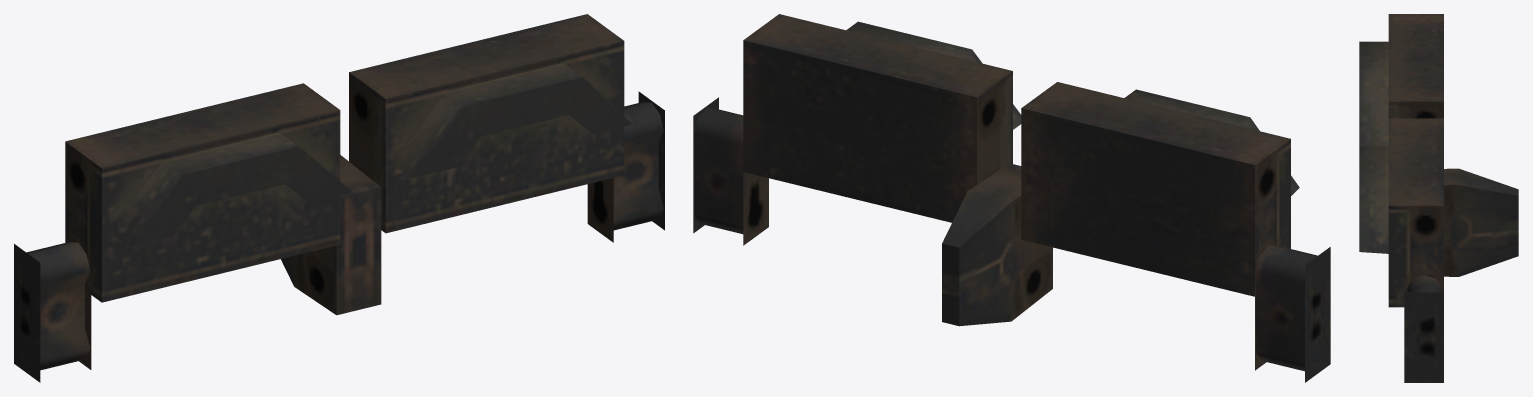
The picture shows the model from 3 angles, left to right: view 1: azimuth 30°, elevation 25°; view 2: azimuth 150°, elevation 25°; view 3: azimuth 270°, elevation 25°; orthographic projection. The views are drawn at different scales.
Parts seen in each view (by area): view 1: set_0_group_0; view 2: set_0_group_0; view 3: set_0_group_0.
Boxes of the visible parts, x1,y1,x2,y2 form: set_0_group_0: (14, 14, 664, 382); set_0_group_0: (693, 14, 1330, 382); set_0_group_0: (1359, 14, 1518, 382).
Bounding box in the file's own units: 0.6985 × 0.2253 × 0.2048.
Materials: 1 (1 with a texture image).
